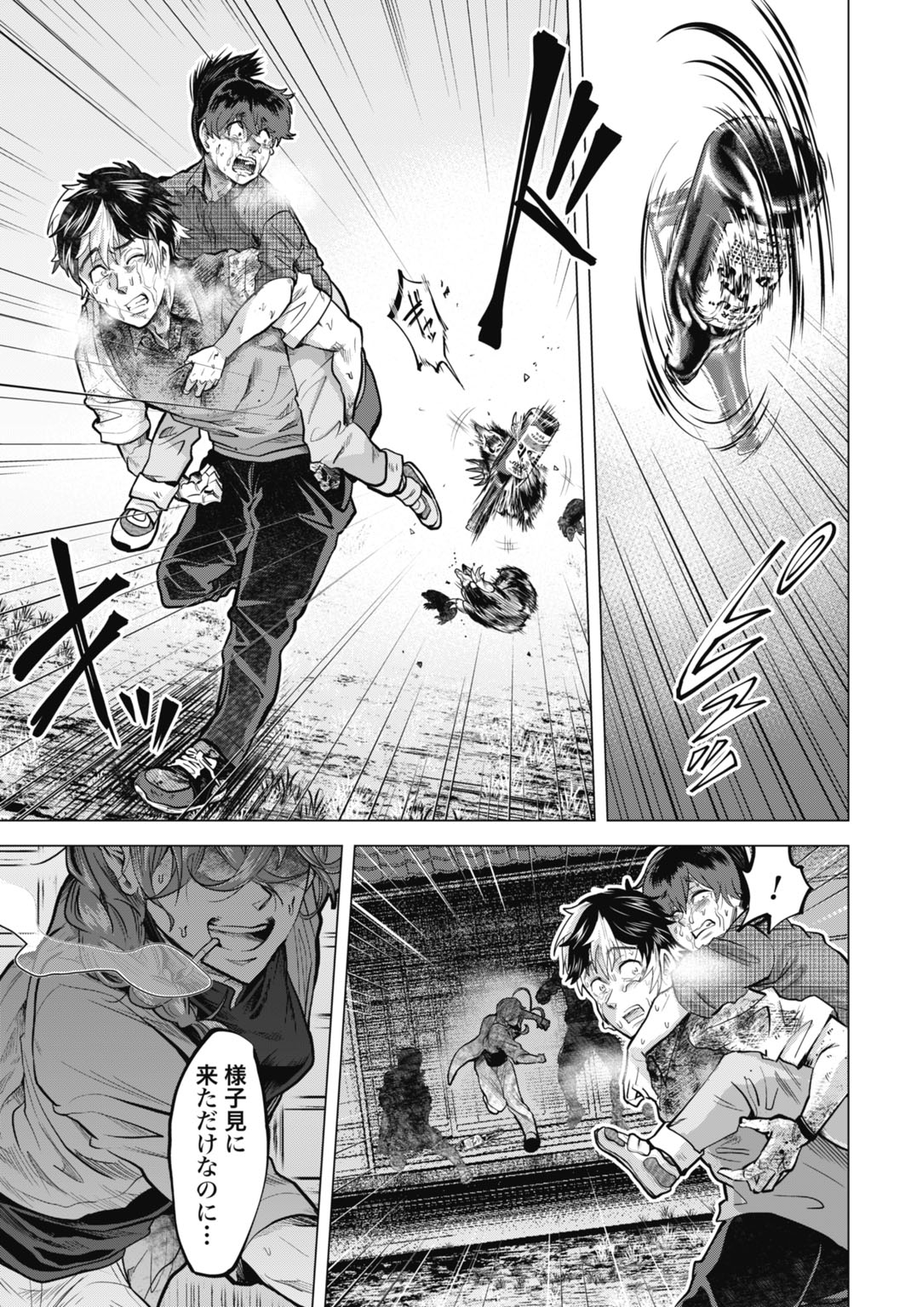bubbles: (157, 1025, 272, 1281), (385, 258, 476, 397), (738, 846, 815, 940)
